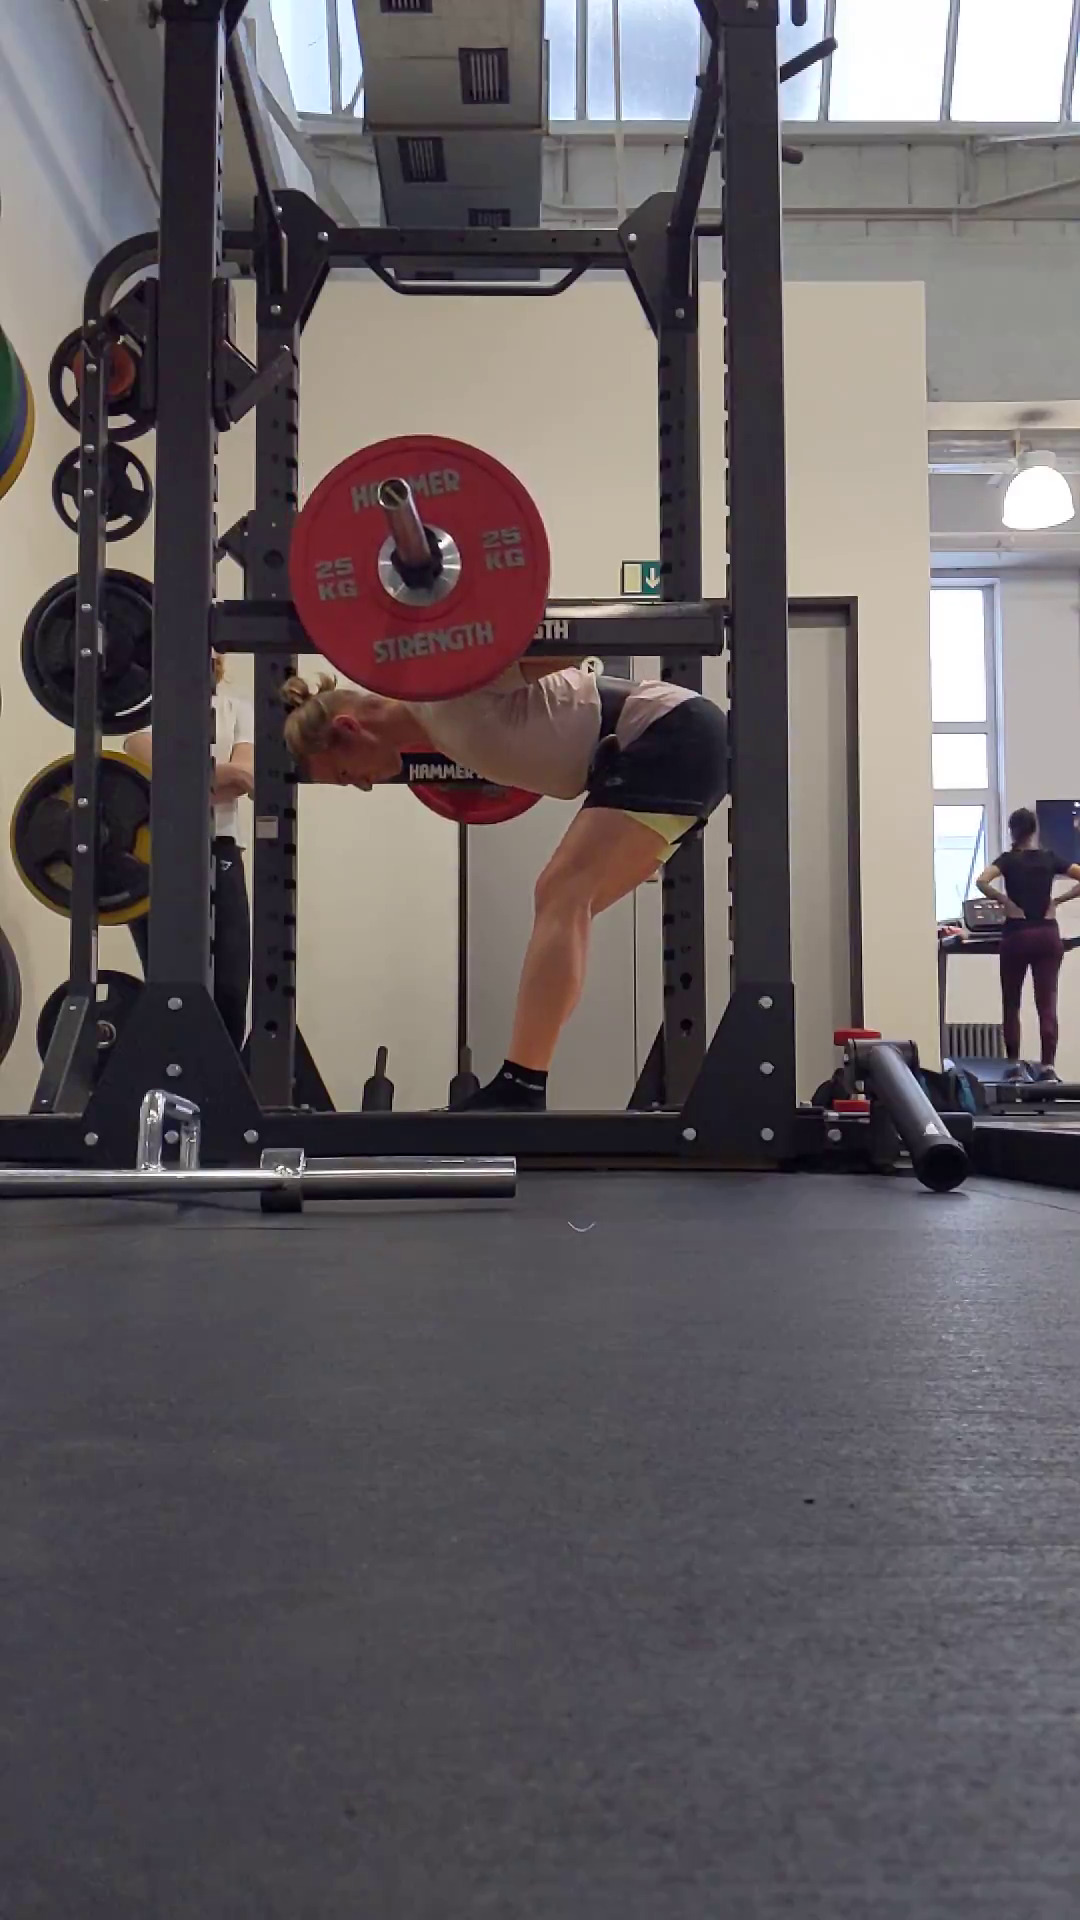barbell: (287, 434, 549, 702)
